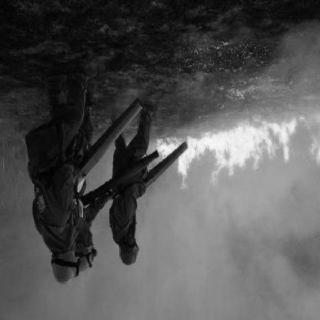Fire: (155, 119, 319, 183)
Smoke: (159, 187, 319, 319)
other: (27, 74, 162, 278)
